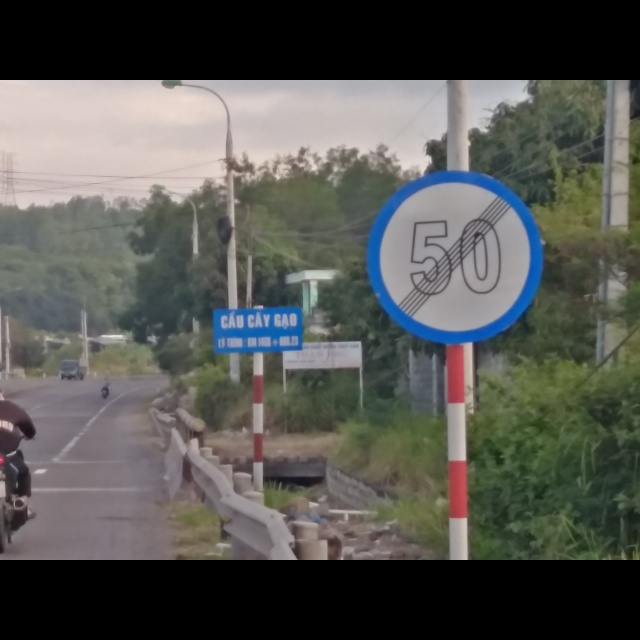Hết hạn chế tốc độ tối đa 50km/h: (365, 169, 544, 346)
